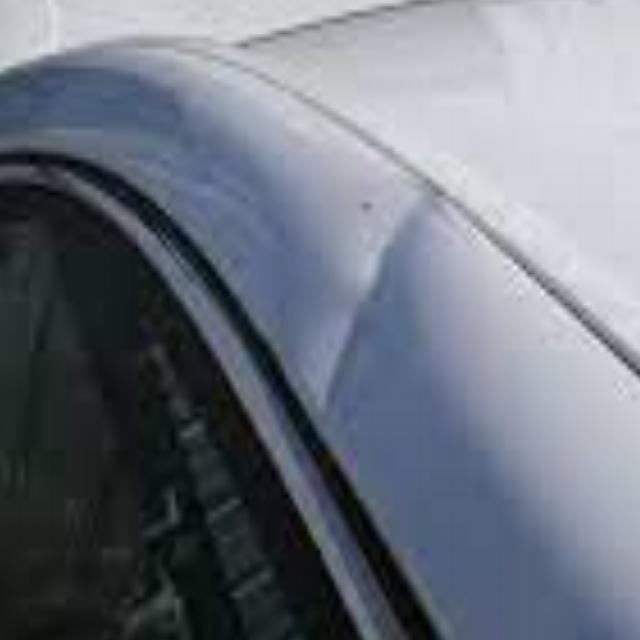dents: (316, 153, 430, 440)
